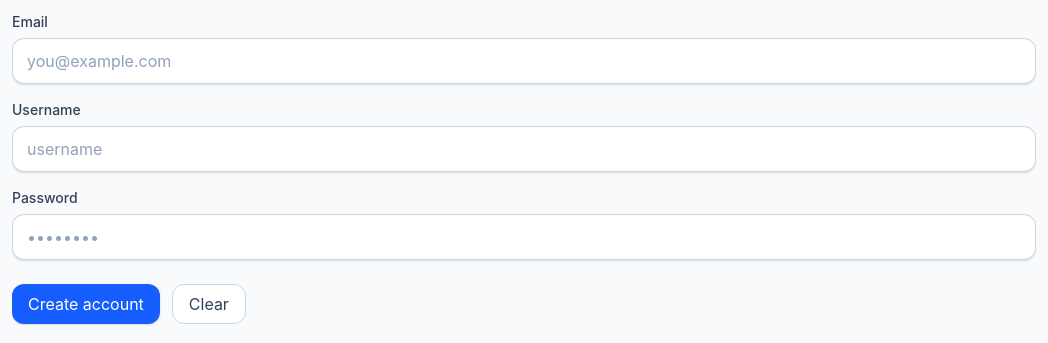
Test: SignUp › clears fields on reset
The image size is (1048, 343).
Step 1. Type "test@example.com" into the field labelled "Email" → [524, 61], box [12,38,1036,84]
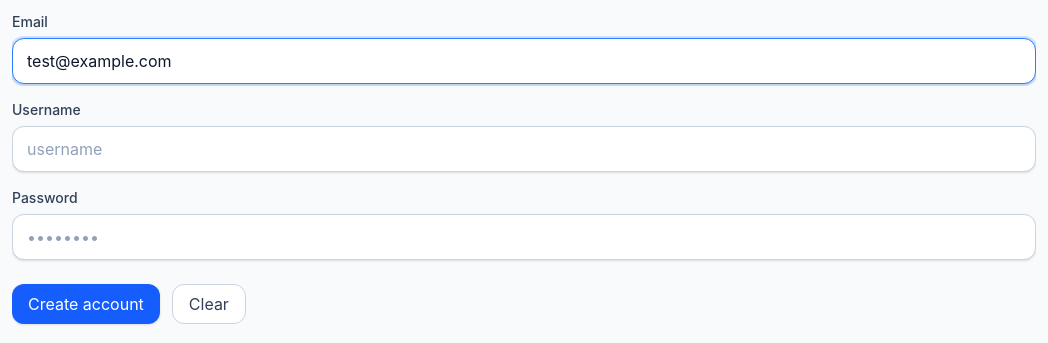
Step 2. Click the button "Clear" → [209, 304], box [172,284,246,324]
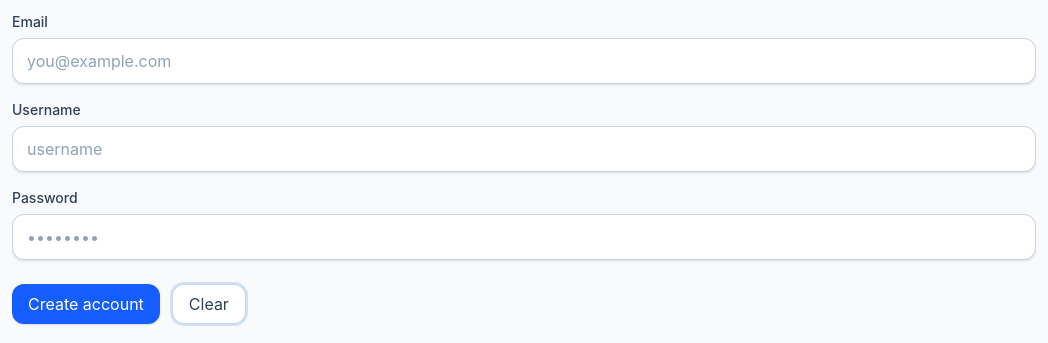
Now the field labelled "Email" is empty, box [12,38,1036,84]
